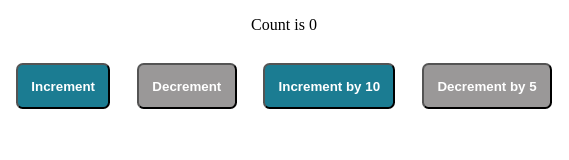
Test: App Component › Should render App with count value as -1 when clicks decrement button
This screenshot has width=569, height=160.
Click the button "Decrement" at (187, 86), box [137,63,237,109]
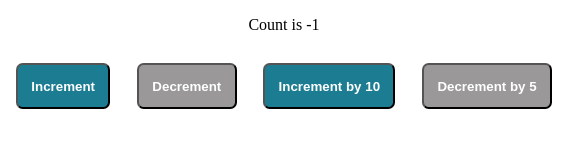
Expected: the text "Count is -1" is shown, [248,16,320,33]
